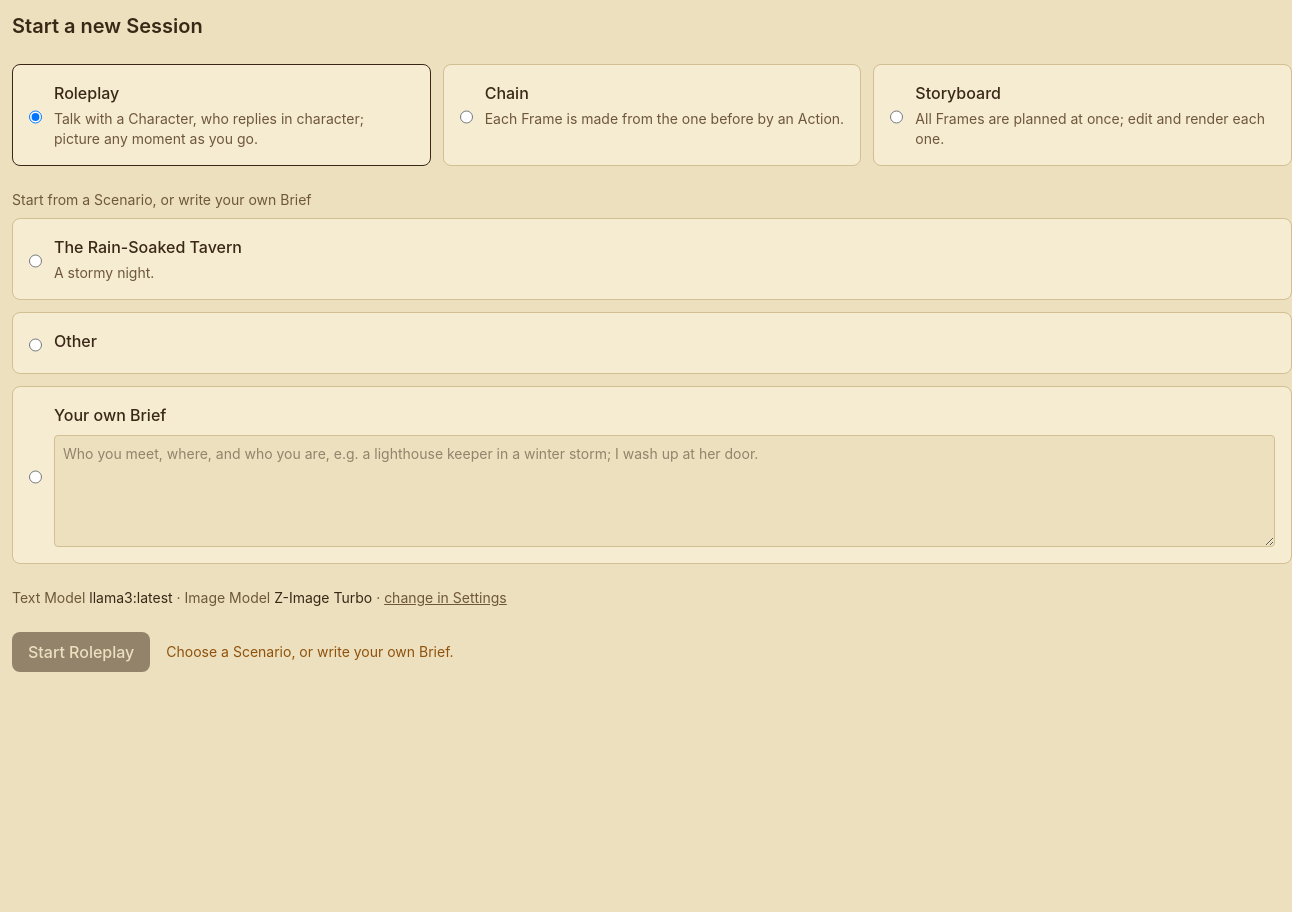
Test: StartSession › requires a choice when there are several Scenarios
The image size is (1292, 912).
Expected: the button "Start Roleplay" is disabled, x1=12 y1=632 x2=150 y2=672
Click the radio button labelled "Other": (36, 345) x1=29 y1=333 x2=42 y2=357
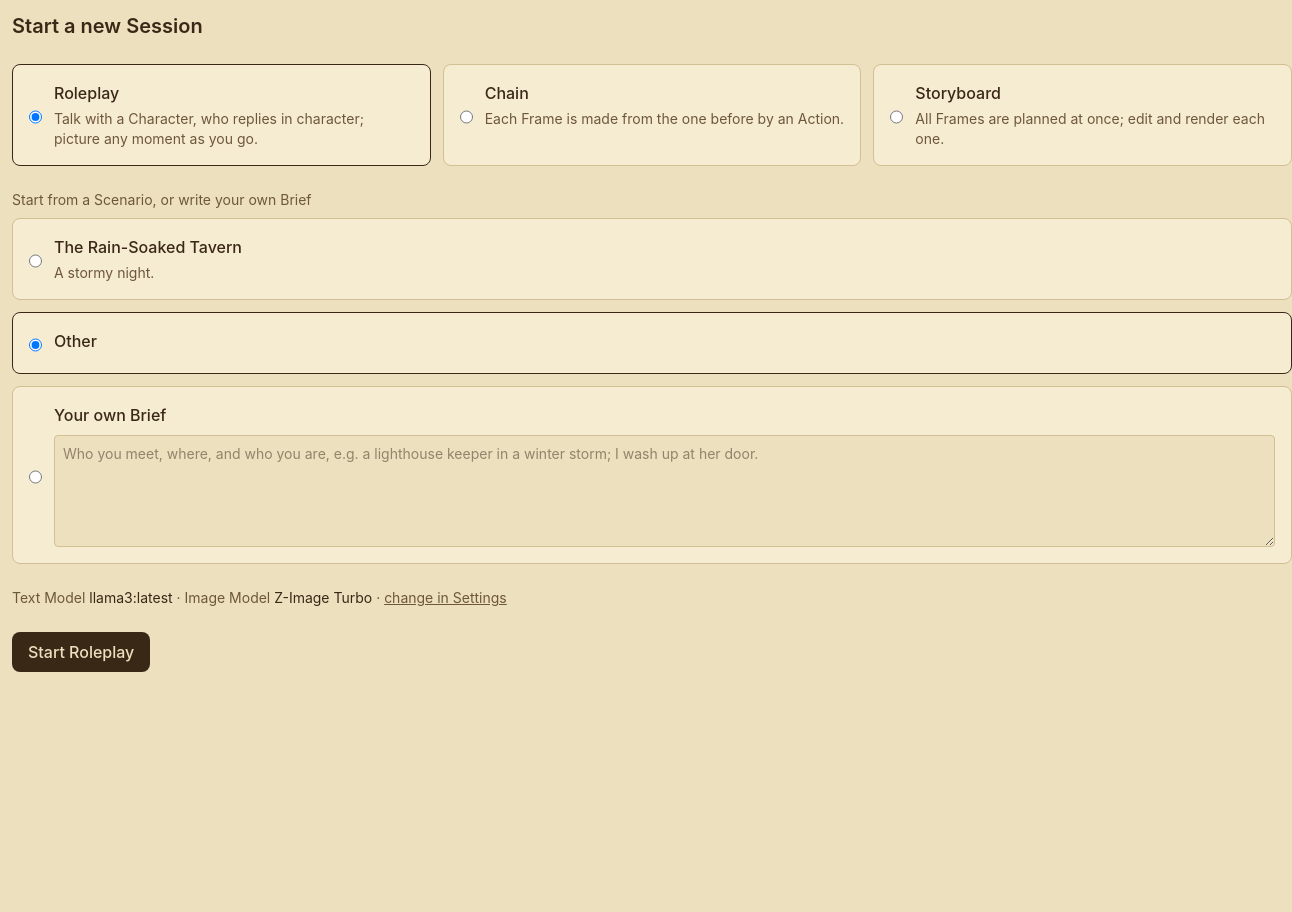
Expected: the button "Start Roleplay" is enabled, x1=12 y1=632 x2=150 y2=672
